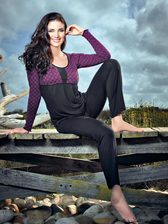clothoes: (15, 27, 113, 131), (58, 62, 131, 186)
